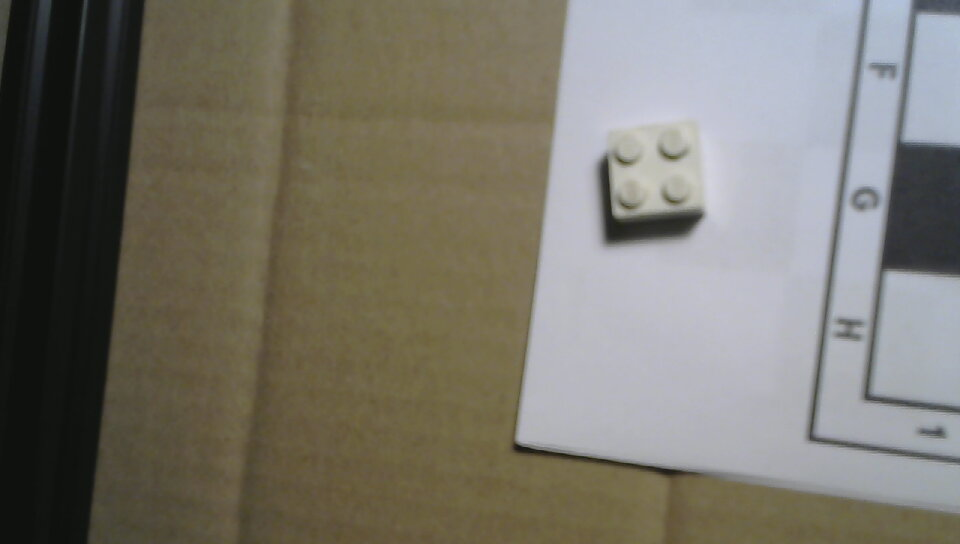wp: (593, 101, 720, 250)
